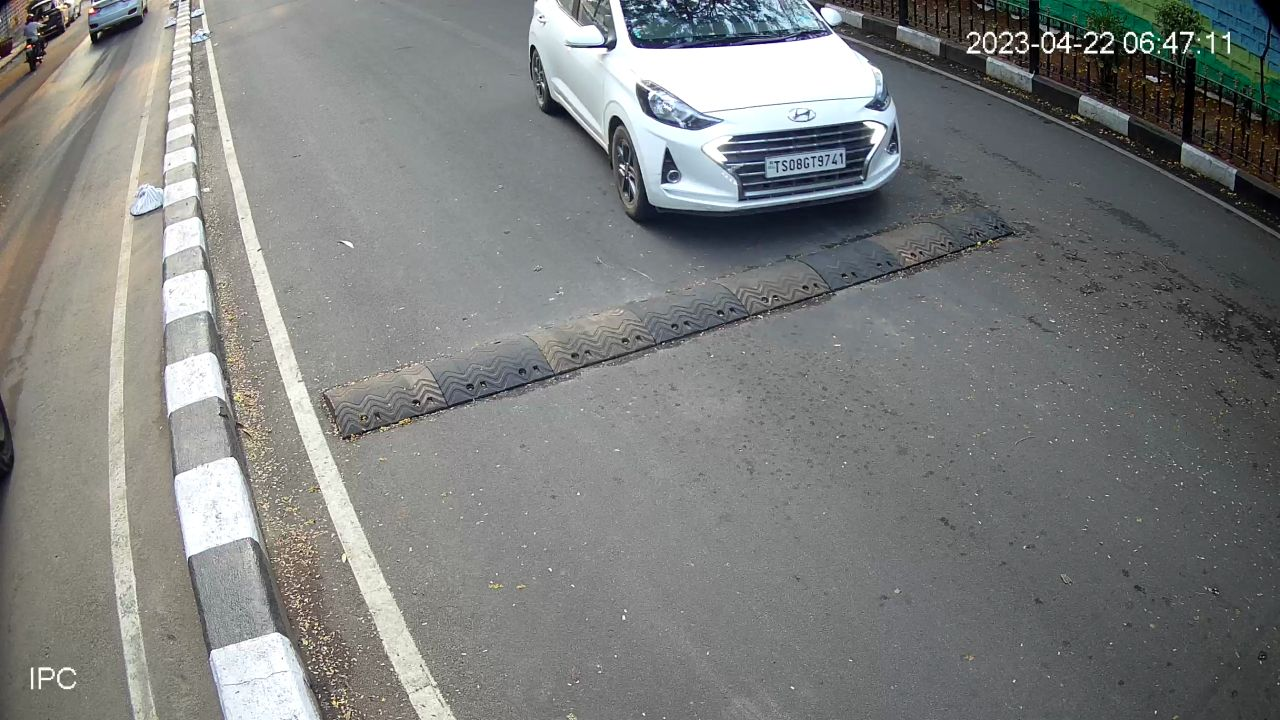license_plate: (754, 140, 855, 191)
